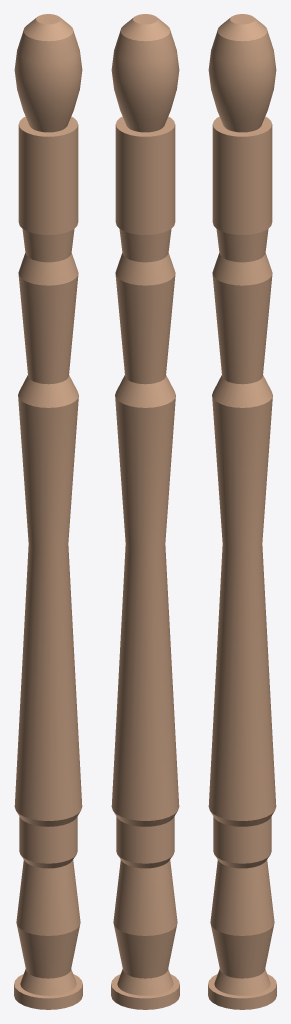
The model's file is Muretto_3_LV_2.fbx.
The picture shows the model from 3 angles, left to right: view 1: azimuth 30°, elevation 25°; view 2: azimuth 210°, elevation 25°; view 3: azimuth 330°, elevation 25°; orthographic projection.
Parts seen in each view (by area): view 1: Cylinder.053; view 2: Cylinder.053; view 3: Cylinder.053.
Part boxes in pixels (x1,y1,x2,y2): Cylinder.053: (14,14,82,1009); Cylinder.053: (111,14,179,1009); Cylinder.053: (208,14,276,1009).
Bounding box in the file's own units: 5.85 × 91.34 × 5.85.
